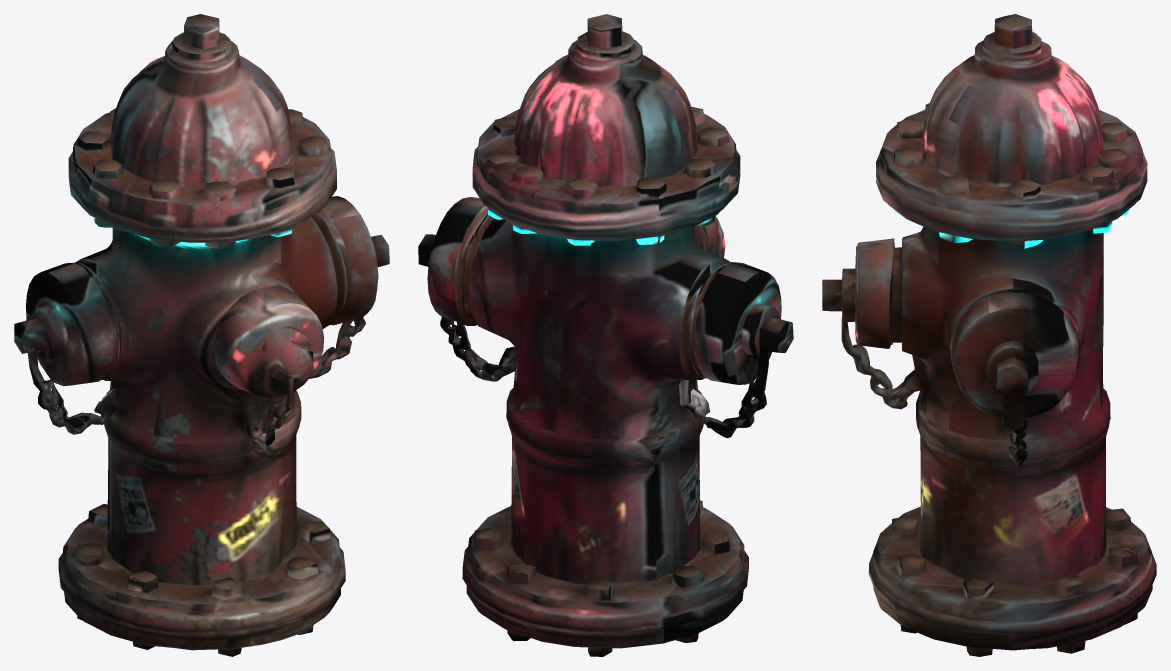
3 views of the same model, side by side, from view 1: azimuth 30°, elevation 25°; view 2: azimuth 150°, elevation 25°; view 3: azimuth 270°, elevation 25° (orthographic).
Visible parts, largest first — view 1: SM_SM_AI_hydrant; view 2: SM_SM_AI_hydrant; view 3: SM_SM_AI_hydrant.
Part boxes in pixels (x1,y1,x2,y2): SM_SM_AI_hydrant: (14,14,389,656); SM_SM_AI_hydrant: (418,14,793,656); SM_SM_AI_hydrant: (822,14,1156,656).
Bounding box in the file's own units: 0.5831 × 0.8998 × 0.4682.
Materials: 1 (1 with a texture image).
